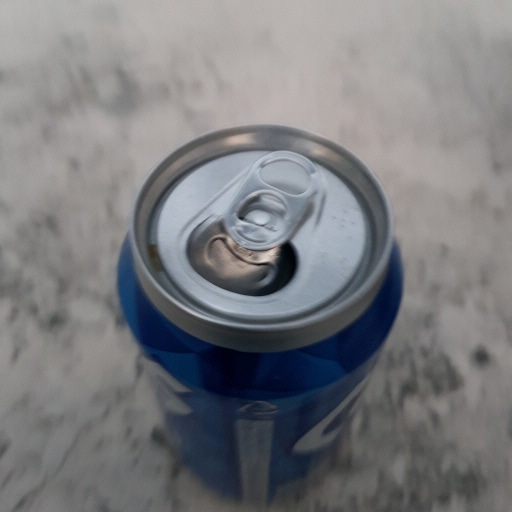Metal_0: (110, 124, 405, 502)
